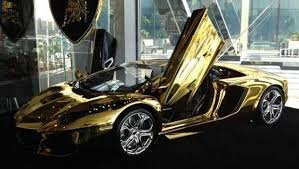mobil: (15, 44, 282, 156)
